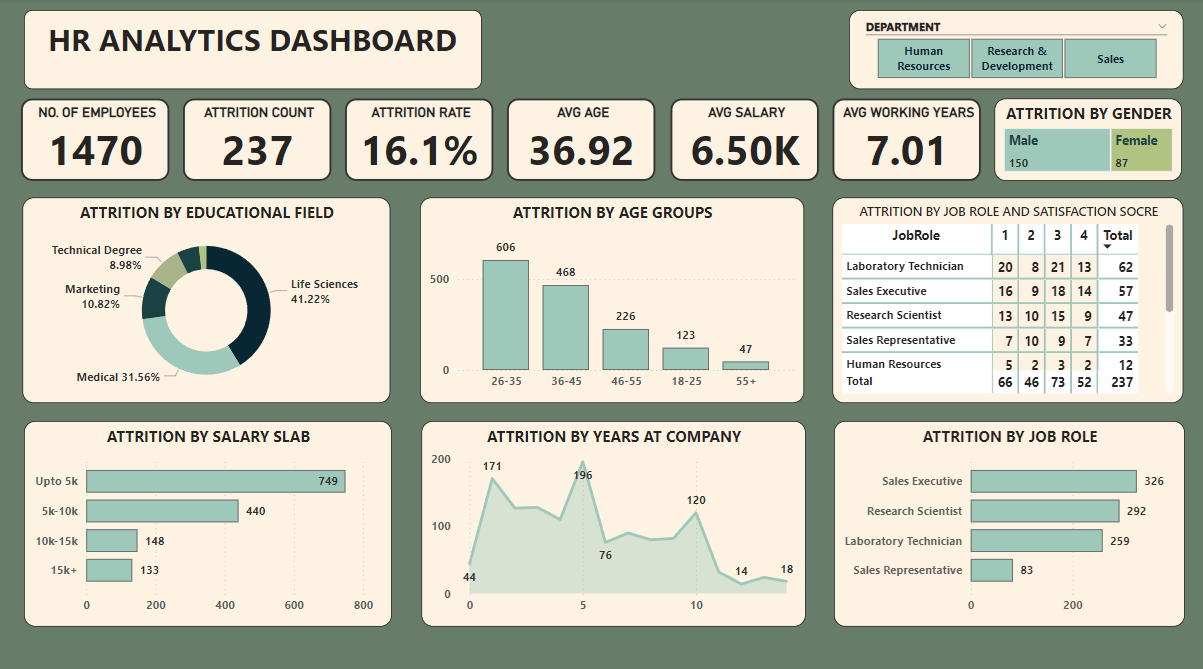

This screenshot's page, from the dashboard's own definition file:
{"tool":"powerbi","page":{"name":"Page 1","canvas":[1280,720],"ordinal":0},"visuals":[{"type":"card","title":"NO. OF EMPLOYEES","fields":{"Values":["CountNonNull(HR_Analytics.EmpID)"]},"box":[22.3,107.1,157.5,87.5],"z":0},{"type":"card","title":"ATTRITION COUNT","fields":{"Values":["Sum(HR_Analytics.Atrritioncount)"]},"box":[194.3,107.1,157.5,87.5],"z":1000},{"type":"card","title":"ATTRITION RATE","fields":{"Values":["HR_Analytics.ATRRITIONRATE"]},"box":[366.4,107.1,157.5,87.5],"z":2000},{"type":"card","title":"AVG AGE","fields":{"Values":["Avg(HR_Analytics.Age)"]},"box":[538.4,107.1,157.5,87.5],"z":3000},{"type":"card","title":"AVG SALARY","fields":{"Values":["Avg(HR_Analytics.MonthlyIncome)"]},"box":[710.5,107.1,157.5,87.5],"z":4000},{"type":"card","title":"AVG WORKING YEARS","fields":{"Values":["Avg(HR_Analytics.YearsAtCompany)"]},"box":[882.5,107.1,157.5,87.5],"z":5000},{"type":"donutChart","title":"ATTRITION BY EDUCATIONAL FIELD","fields":{"Category":["HR_Analytics.EducationField"],"Y":["CountNonNull(HR_Analytics.Attrition)"]},"box":[23.3,211,389.7,217.9],"z":6000},{"type":"columnChart","title":"ATTRITION BY AGE GROUPS","fields":{"Category":["HR_Analytics.AgeGroup"],"Y":["CountNonNull(HR_Analytics.Attrition)"]},"box":[444.8,211,407.2,217.9],"z":7000},{"type":"pivotTable","title":"ATTRITION BY JOB ROLE AND SATISFACTION SOCRE","fields":{"Rows":["HR_Analytics.JobRole"],"Columns":["HR_Analytics.JobSatisfaction"],"Values":["Sum(HR_Analytics.Atrritioncount)"]},"box":[882.3,211,372.2,217.9],"z":8000},{"type":"clusteredBarChart","title":"ATTRITION BY SALARY SLAB","fields":{"Category":["HR_Analytics.SalarySlab"],"Y":["CountNonNull(HR_Analytics.Attrition)"]},"box":[25.4,448.6,389.7,217.9],"z":9000},{"type":"areaChart","title":"ATTRITION BY YEARS AT COMPANY","fields":{"Category":["HR_Analytics.YearsAtCompany"],"Y":["CountNonNull(HR_Analytics.Attrition)"]},"box":[447,448.6,407.2,217.9],"z":10000},{"type":"clusteredBarChart","title":"ATTRITION BY JOB ROLE","fields":{"Y":["CountNonNull(HR_Analytics.Attrition)"],"Category":["HR_Analytics.JobRole"]},"box":[884.4,448.6,372.2,217.9],"z":11000},{"type":"treemap","title":"ATTRITION BY GENDER","fields":{"Group":["HR_Analytics.Gender"],"Values":["Sum(HR_Analytics.Atrritioncount)"]},"box":[1054.6,107.1,198.8,87.5],"z":12000},{"type":"slicer","fields":{"Values":["HR_Analytics.Department"]},"box":[900.3,12.7,354.7,84.3],"z":13000},{"type":"textbox","box":[25.4,12.7,485.1,84.3],"z":14000}]}

Visuals, with their boxes in screenshot pixels (x1, y1, x2, y2), scaled from the page's 1280x720 canvas onto the 1203x669 screenshot:
"NO. OF EMPLOYEES" card: <region>21, 100, 169, 181</region>
"ATTRITION COUNT" card: <region>183, 100, 331, 181</region>
"ATTRITION RATE" card: <region>344, 100, 492, 181</region>
"AVG AGE" card: <region>506, 100, 654, 181</region>
"AVG SALARY" card: <region>668, 100, 816, 181</region>
"AVG WORKING YEARS" card: <region>829, 100, 977, 181</region>
"ATTRITION BY EDUCATIONAL FIELD" donutChart: <region>22, 196, 388, 399</region>
"ATTRITION BY AGE GROUPS" columnChart: <region>418, 196, 801, 399</region>
"ATTRITION BY JOB ROLE AND SATISFACTION SOCRE" pivotTable: <region>829, 196, 1179, 399</region>
"ATTRITION BY SALARY SLAB" clusteredBarChart: <region>24, 417, 390, 619</region>
"ATTRITION BY YEARS AT COMPANY" areaChart: <region>420, 417, 803, 619</region>
"ATTRITION BY JOB ROLE" clusteredBarChart: <region>831, 417, 1181, 619</region>
"ATTRITION BY GENDER" treemap: <region>991, 100, 1178, 181</region>
slicer - HR_Analytics.Department: <region>846, 12, 1180, 90</region>
textbox: <region>24, 12, 480, 90</region>
